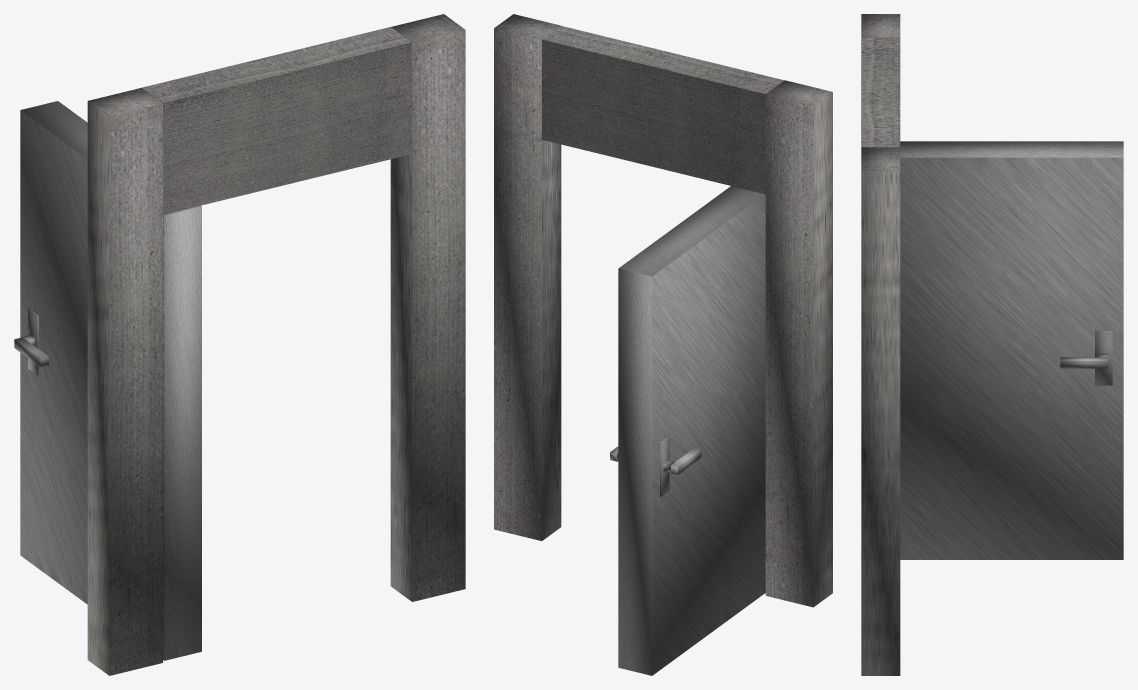
The model's file is metaldoor_000005.obj.
3 views of the same model, side by side, from view 1: azimuth 30°, elevation 25°; view 2: azimuth 150°, elevation 25°; view 3: azimuth 270°, elevation 25° (orthographic). The views are drawn at different scales.
Parts seen in each view (by area): view 1: Cube.006_Cube.007, Cube.004_Cube.005; view 2: Cube.006_Cube.007, Cube.004_Cube.005; view 3: Cube.004_Cube.005, Cube.006_Cube.007.
Part boxes in pixels (x1,y1,x2,y2): Cube.006_Cube.007: (87, 14, 465, 675); Cube.004_Cube.005: (14, 101, 201, 660); Cube.006_Cube.007: (494, 14, 832, 607); Cube.004_Cube.005: (610, 186, 765, 675); Cube.004_Cube.005: (900, 141, 1123, 559); Cube.006_Cube.007: (861, 14, 900, 675).
Size of the model in its own units: 2 by 3 by 1.41.
